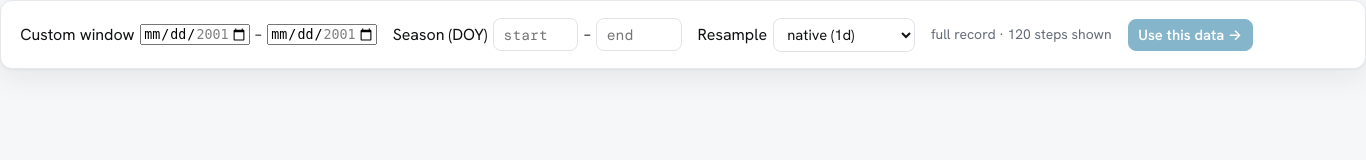
Test case: subset-06: editing one bound through an empty field › the clear buttons still clear the whole selection
Type "2001-01-15" into the date field named "window start" at (195, 35), box x1=140 y1=24 x2=250 y2=45
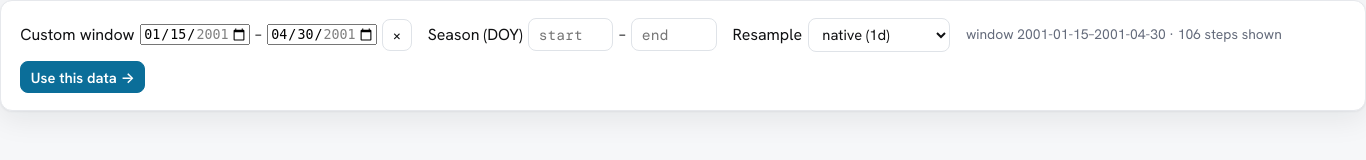
Click the button named "Clear analysis window" at (397, 35), box x1=382 y1=19 x2=412 y2=51
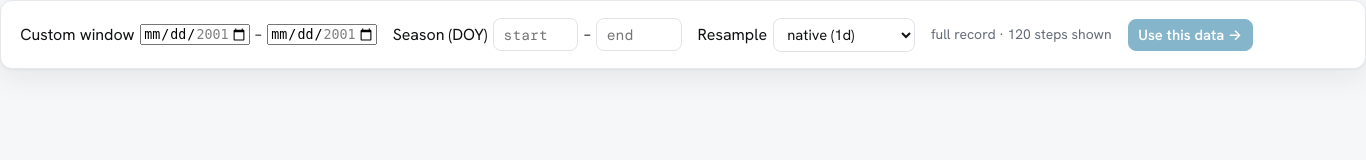
Now the date field named "window start" is empty, box x1=140 y1=24 x2=250 y2=45
